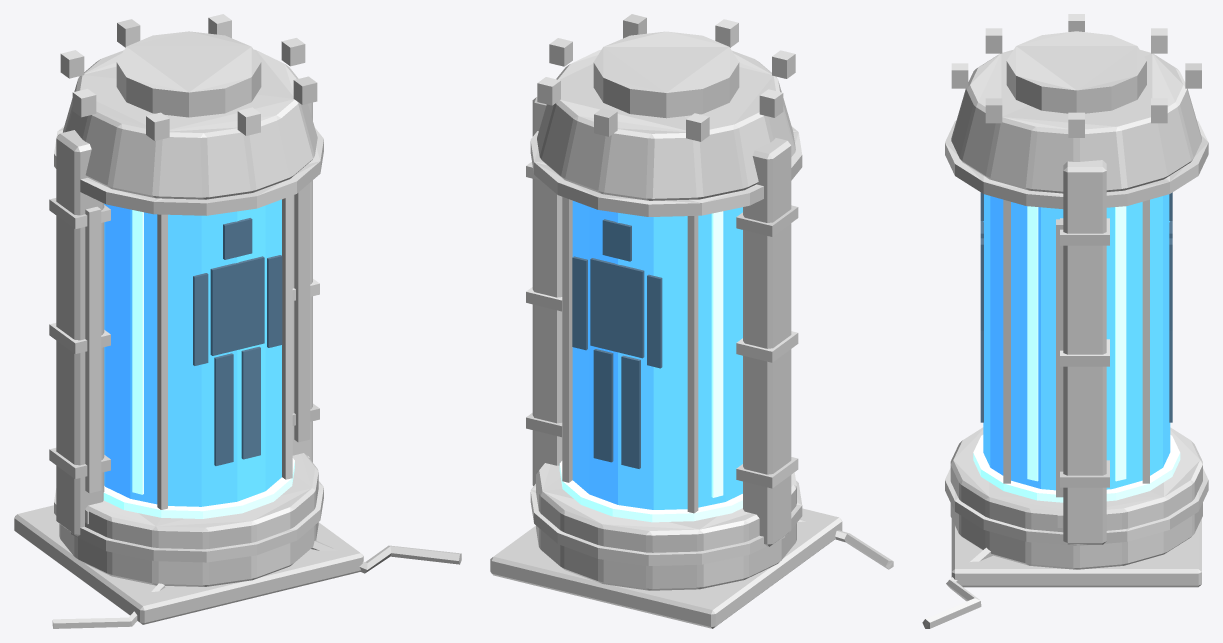
Rendered from Containment_Tube.fbx.
3 views of the same model, side by side, from view 1: azimuth 30°, elevation 25°; view 2: azimuth 150°, elevation 25°; view 3: azimuth 270°, elevation 25° (orthographic). The views are drawn at different scales.
Visible parts, largest first — view 1: Containment_Tube; view 2: Containment_Tube; view 3: Containment_Tube.
Boxes of the visible parts, box(x1,y1,x2,y2) form: Containment_Tube: box(14, 14, 461, 628); Containment_Tube: box(490, 14, 893, 628); Containment_Tube: box(922, 14, 1208, 628).
Bounding box in the file's own units: 2.53 × 3.15 × 1.71.
